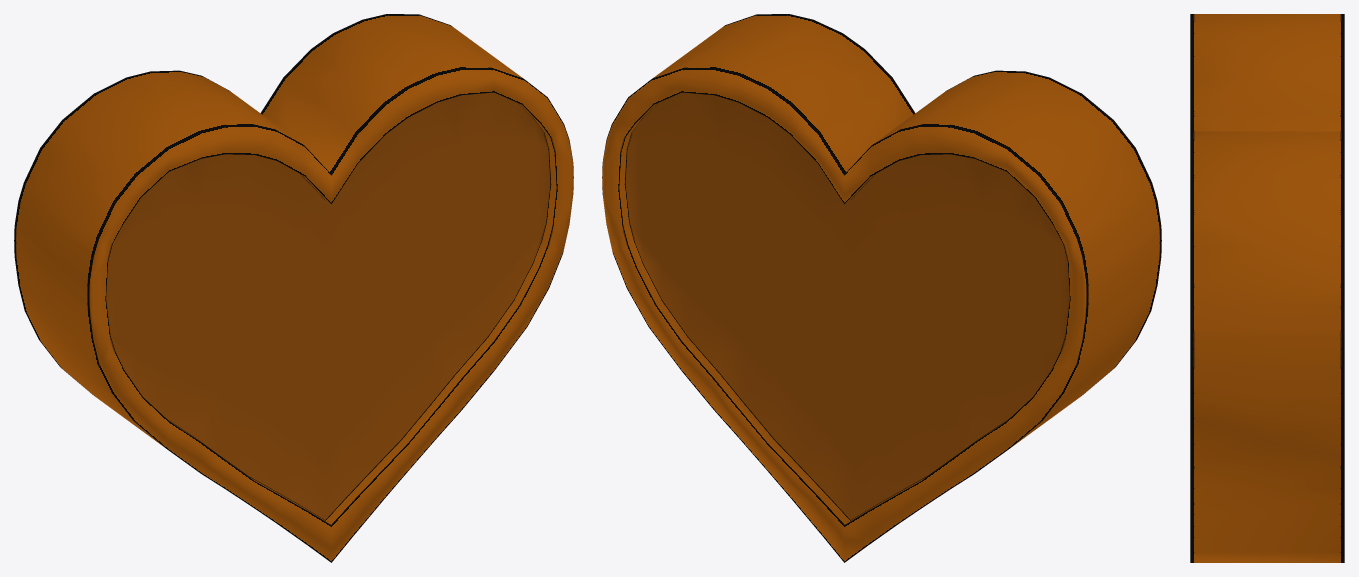
Rendered from Treat.glb.
3 renders of one model, left to right at view 1: azimuth 30°, elevation 25°; view 2: azimuth 150°, elevation 25°; view 3: azimuth 270°, elevation 25°, orthographic. The views are drawn at different scales.
Visible parts, largest first — view 1: Treat; view 2: Treat; view 3: Treat.
Boxes of the visible parts, x1=… form: Treat: x1=14, y1=14, x2=573, y2=562; Treat: x1=602, y1=14, x2=1161, y2=562; Treat: x1=1190, y1=14, x2=1344, y2=562.
Size of the model in its own units: 1.1 by 1 by 0.2943.
1 material, 1 textured.
